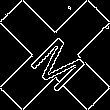M_NE: (21, 21, 89, 89)
